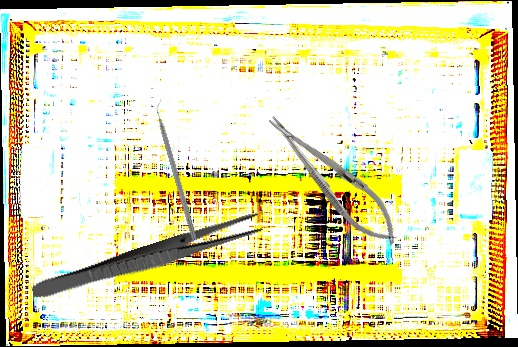Chopper: (152, 98, 205, 241)
Dressing Forceps: (29, 209, 265, 308)
Needle Holder: (257, 103, 410, 256)
